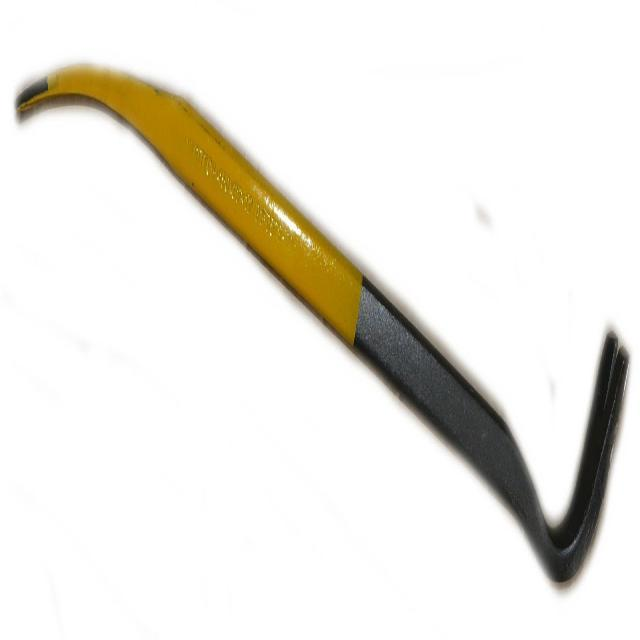Linggis: (9, 41, 633, 597)
